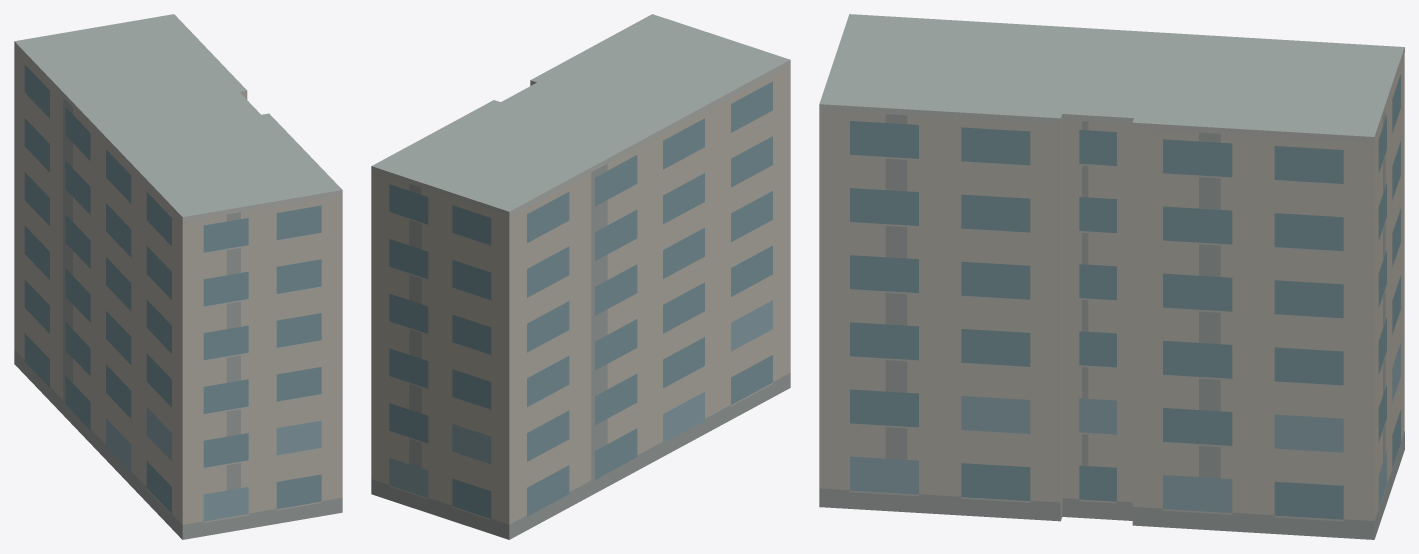
File: survey-upis-33037164.glb
3 views of the same model, side by side, from view 1: azimuth 30°, elevation 25°; view 2: azimuth 150°, elevation 25°; view 3: azimuth 270°, elevation 25° (orthographic). The views are drawn at different scales.
Parts seen in each view (by area): view 1: survey-upis-33037164.tmp; view 2: survey-upis-33037164.tmp; view 3: survey-upis-33037164.tmp.
Boxes of the visible parts, x1,y1,x2,y2 form: survey-upis-33037164.tmp: (14, 14, 342, 539); survey-upis-33037164.tmp: (371, 14, 790, 539); survey-upis-33037164.tmp: (819, 14, 1404, 539).
Size of the model in its own units: 10.72 by 16.35 by 21.54.
